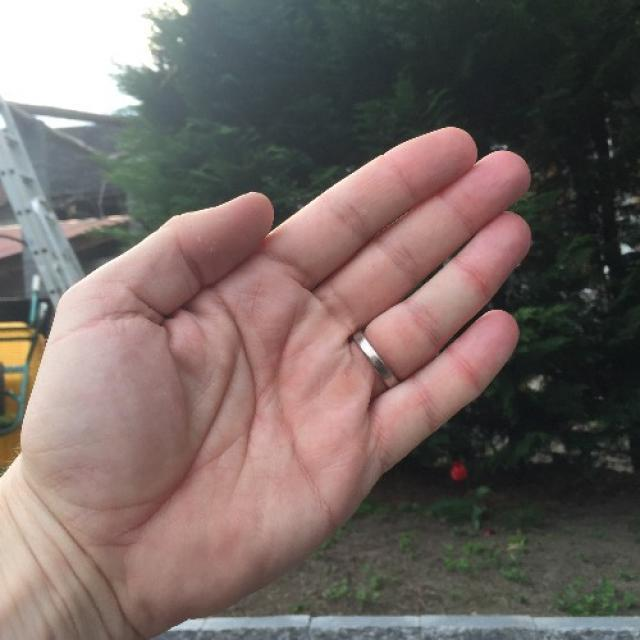paper: (36, 125, 530, 565)
